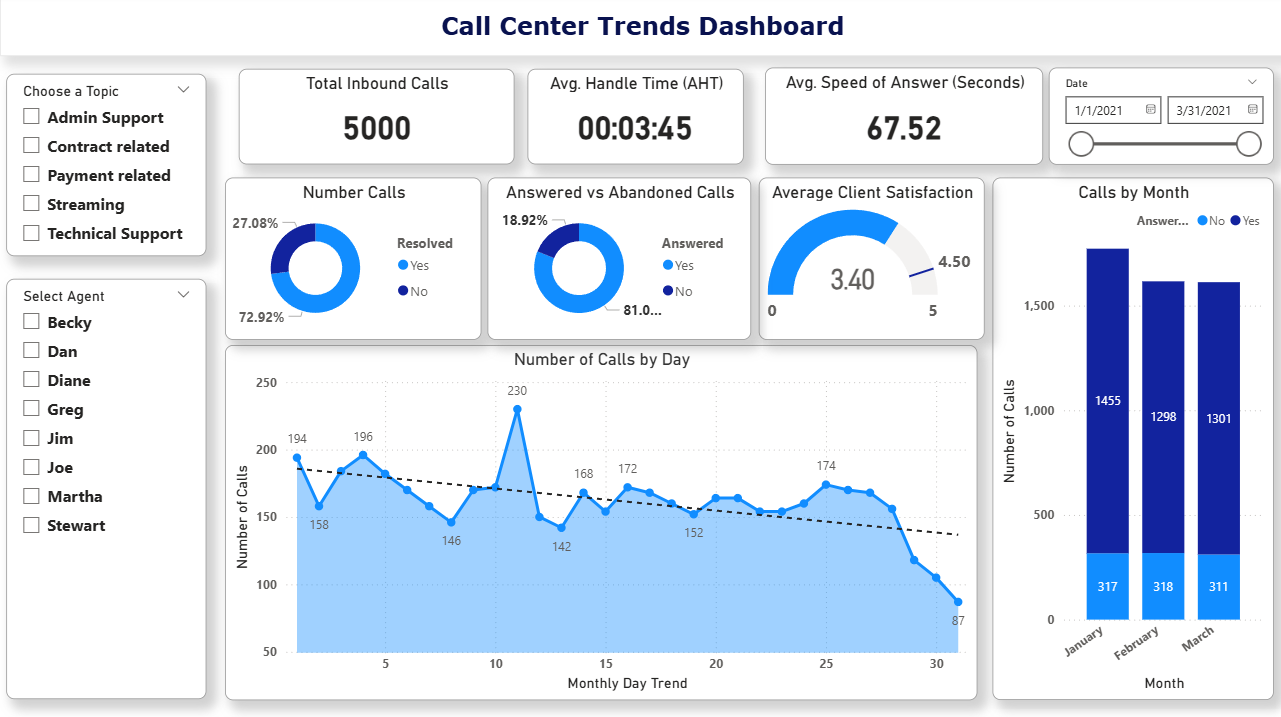

This screenshot's page, from the dashboard's own definition file:
{"tool":"powerbi","page":{"name":"Dashboard","canvas":[1280,720],"ordinal":0},"visuals":[{"type":"shape","box":[0,0,1279.7,60.6],"z":0},{"type":"card","title":"Total Inbound Calls","fields":{"Values":["Count(call_center.Call Id)"]},"box":[238.1,73.6,274.1,95.2],"z":1000},{"type":"card","title":"Avg. Handle Time  (AHT)","fields":{"Values":["call_center.Average Handle Time(AHT)"]},"box":[525.2,73.6,215,95.2],"z":2000},{"type":"card","title":"Avg. Speed of Answer (Seconds)","fields":{"Values":["call_center.Average Speed of Answer (Seconds)"]},"box":[761.8,72.1,277,96.7],"z":3000},{"type":"slicer","fields":{"Values":["call_center.Topic"]},"box":[5.8,77.9,199.1,181.8],"z":4000},{"type":"slicer","fields":{"Values":["call_center.Agent"]},"box":[5.8,282.8,199.1,418.4],"z":5000},{"type":"areaChart","title":"Number of Calls by Day","fields":{"Category":["call_center.Date.Variation.Date Hierarchy.Day"],"Y":["CountNonNull(call_center.Answered (Y/N))"]},"box":[223.9,348.3,748.9,353.3],"z":6000},{"type":"columnChart","title":"Calls by Month","fields":{"Series":["call_center.Answered (Y/N)"],"Category":["call_center.Date.Variation.Date Hierarchy.Month"],"Y":["CountNonNull(call_center.Answered (Y/N))"]},"box":[987.7,181.6,279.9,520],"z":7000},{"type":"gauge","title":"Average Client Satisfaction ","fields":{"Y":["call_center.Average Customer Satisfaction (CSAT)"],"MaxValue":["Max(call_center.Satisfaction rating)"],"MinValue":["Min(call_center.Satisfaction rating)1"],"TargetValue":["call_center.Target CSAT"]},"box":[754.8,181.9,225.1,161.6],"z":8000},{"type":"donutChart","title":"Number Calls ","fields":{"Category":["call_center.Resolved"],"Y":["CountNonNull(call_center.Call Id)"]},"box":[223.9,181.9,255.4,161.6],"z":9000},{"type":"donutChart","title":"Answered vs Abandoned Calls","fields":{"Category":["call_center.Answered (Y/N)"],"Y":["CountNonNull(call_center.Call Id)"]},"box":[485.1,181.9,262.6,161.6],"z":10000},{"type":"slicer","fields":{"Values":["call_center.Date"]},"box":[1043.7,72.1,223.9,97],"z":11001}]}

Visuals, with their boxes in screenshot pixels (x1, y1, x2, y2), scaled from the page's 1280x720 canvas onto the 1281x717 screenshot:
shape: 0/0/1280/60
"Total Inbound Calls" card: 238/73/513/168
"Avg. Handle Time  (AHT)" card: 526/73/741/168
"Avg. Speed of Answer (Seconds)" card: 762/72/1040/168
slicer - call_center.Topic: 6/78/205/259
slicer - call_center.Agent: 6/282/205/698
"Number of Calls by Day" areaChart: 224/347/974/699
"Calls by Month" columnChart: 988/181/1269/699
"Average Client Satisfaction " gauge: 755/181/981/342
"Number Calls " donutChart: 224/181/480/342
"Answered vs Abandoned Calls" donutChart: 485/181/748/342
slicer - call_center.Date: 1045/72/1269/168
